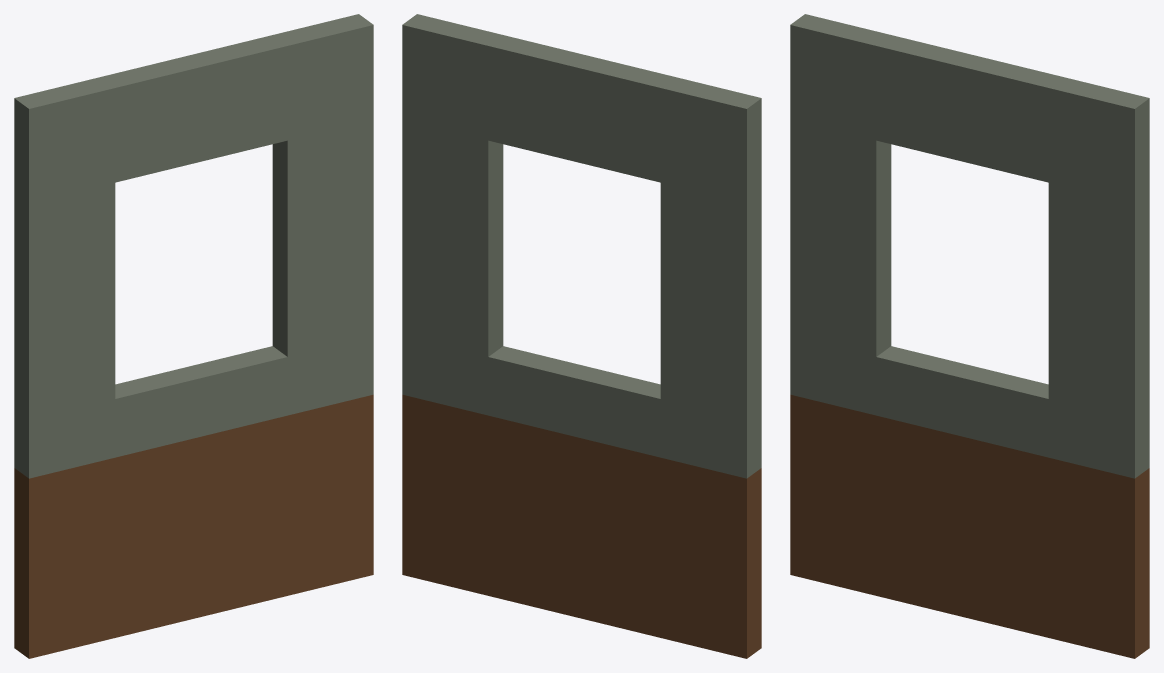
Rendered from Building_22.fbx.
3 views of the same model, side by side, from view 1: azimuth 30°, elevation 25°; view 2: azimuth 150°, elevation 25°; view 3: azimuth 330°, elevation 25° (orthographic).
Parts seen in each view (by area): view 1: Building_22; view 2: Building_22; view 3: Building_22.
Boxes of the visible parts, x1,y1,x2,y2 form: Building_22: (14,14,373,658); Building_22: (402,14,761,658); Building_22: (790,14,1149,658).
Bounding box in the file's own units: 162 × 247 × 12.15.
1 material, 1 textured.
